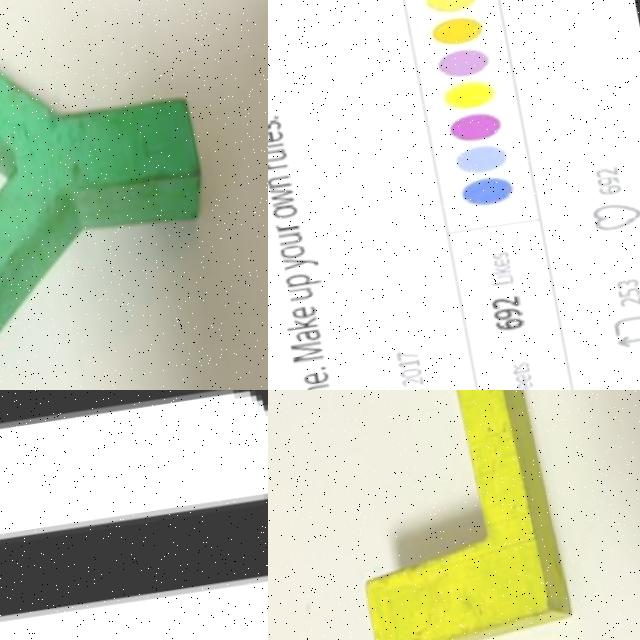0: (395, 365, 421, 379)
1: (394, 357, 419, 369)
2: (486, 294, 521, 309), (397, 374, 422, 388), (615, 292, 640, 305), (592, 164, 618, 176)
3: (613, 277, 638, 289)
5: (614, 285, 639, 298)
6: (491, 315, 522, 330), (596, 181, 621, 195)
7: (392, 348, 417, 360)
9: (487, 303, 523, 320), (594, 173, 619, 185)
L: (321, 390, 566, 640)
M: (0, 390, 268, 640)
Y: (0, 0, 224, 331)
